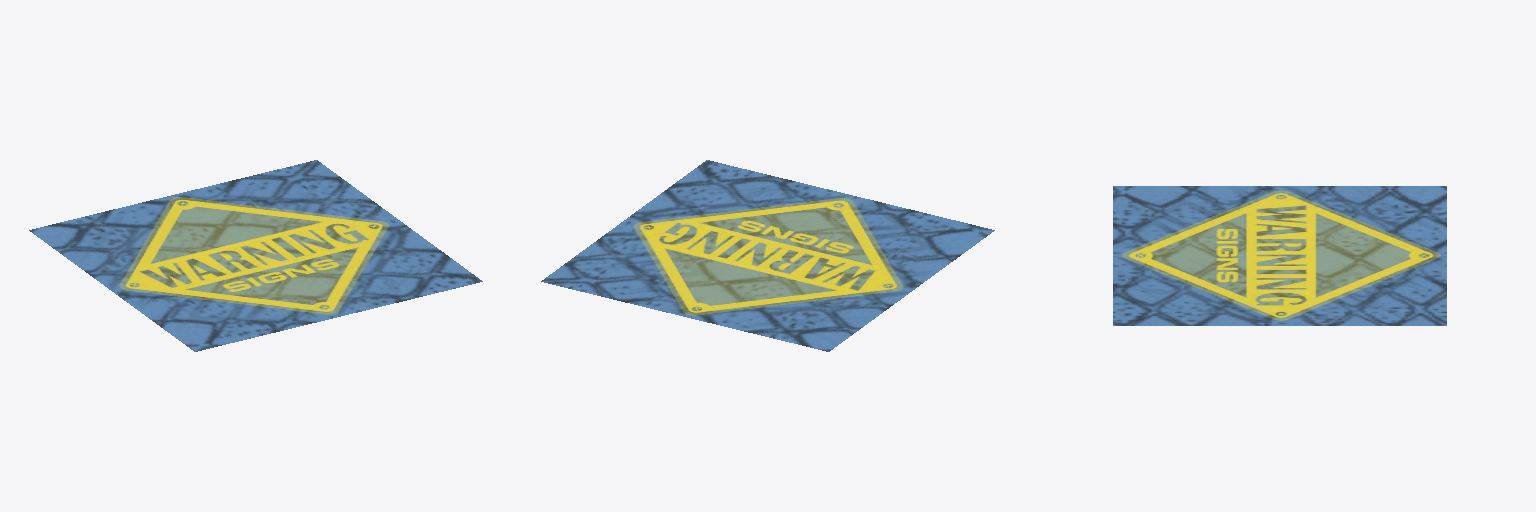
The picture shows the model from 3 angles: view 1: azimuth 30°, elevation 25°; view 2: azimuth 150°, elevation 25°; view 3: azimuth 270°, elevation 25°; orthographic projection.
Parts seen in each view (by area): view 1: goal_Plane.003; view 2: goal_Plane.003; view 3: goal_Plane.003.
Boxes of the visible parts, <box> form: goal_Plane.003: <box>29,160,482,351</box>; goal_Plane.003: <box>541,160,994,351</box>; goal_Plane.003: <box>1113,186,1446,325</box>.
Size of the model in its own units: 1 by 0 by 1.
Materials: 1 (1 with a texture image).